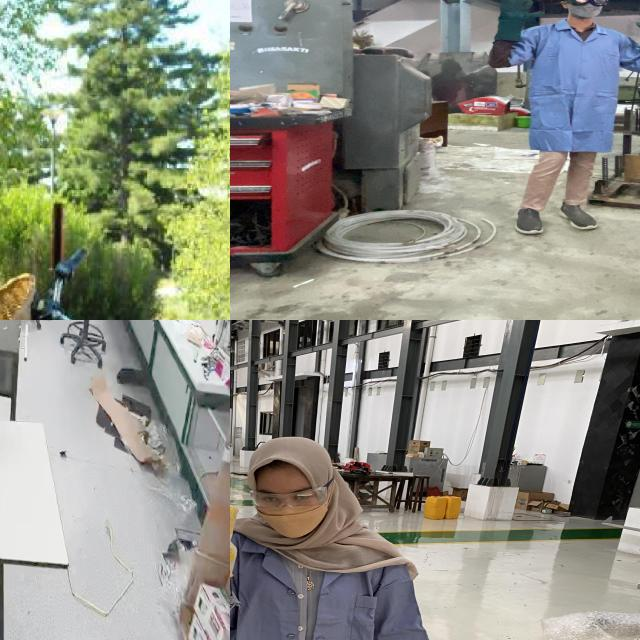face_mask: (253, 484, 326, 543)
glasses: (247, 473, 337, 513), (557, 0, 613, 7)
hand_glove: (489, 0, 549, 30), (230, 502, 248, 574), (628, 3, 640, 37)
head_nohelmet: (248, 433, 332, 479)
person: (230, 433, 441, 640), (469, 0, 640, 242)
shoes: (504, 200, 554, 240), (550, 200, 604, 233)
